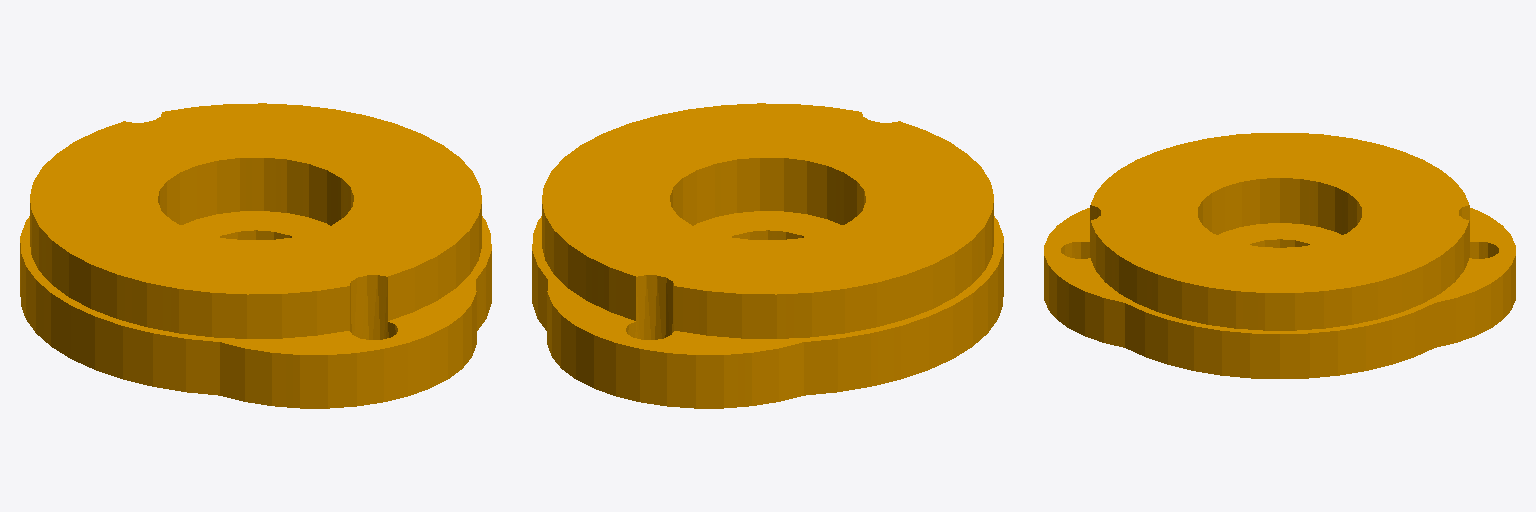
URDF robot description (00700_socket):
<?xml version="1.0"?>
<robot name="00700_socket">
	<link name="00700_socket">
		<visual>
			<geometry>
				<mesh filename="../mesh/00700/asset_socket.obj"/>
			</geometry>
		</visual>
		<collision>
			<geometry>
				<mesh filename="../mesh/00700/asset_socket.obj"/>
			</geometry>
			<sdf resolution="256"/>
		</collision>
	</link>
</robot>

--- What the picture shows (computed from the rendered views, not written in the file) ---
The picture shows the robot from 3 angles, left to right: view 1: azimuth 30°, elevation 25°; view 2: azimuth 150°, elevation 25°; view 3: azimuth 270°, elevation 25°; orthographic projection.
Model 00700_socket with 1 links and 0 joints (none), rooted at 00700_socket, posed all joints at 0.
Visible links, largest first — view 1: 00700_socket; view 2: 00700_socket; view 3: 00700_socket.
Link boxes in pixels (left/top/right/bottom): 00700_socket: left=20, top=103, right=491, bottom=408; 00700_socket: left=532, top=103, right=1003, bottom=408; 00700_socket: left=1044, top=133, right=1515, bottom=378.
Bounding box of the posed robot: 0.028 × 0.0332 × 0.0064 m (x, y, z).
Meshes: 1 distinct files referenced, 1 mesh visuals loaded (1 OBJ).